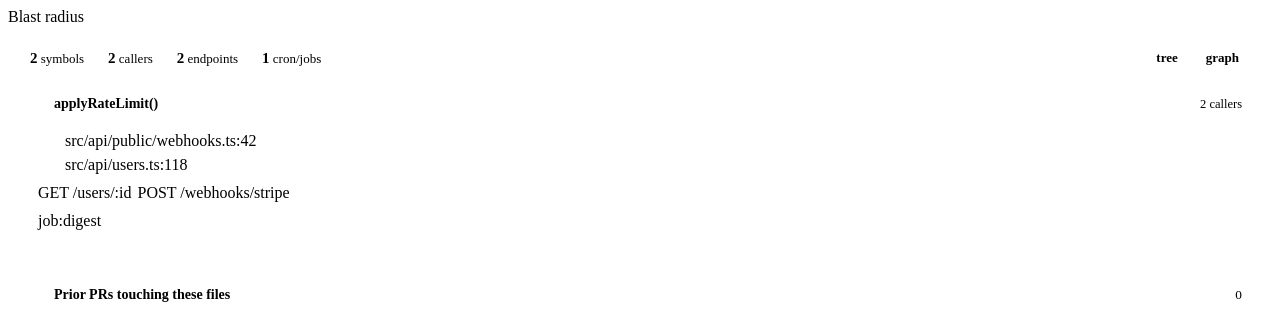
Test: BlastRadiusPanel › toggles a group open/closed (P3-a)
Click the button "applyRateLimit() 2 callers" at (106, 104), box [24,86,1256,122]
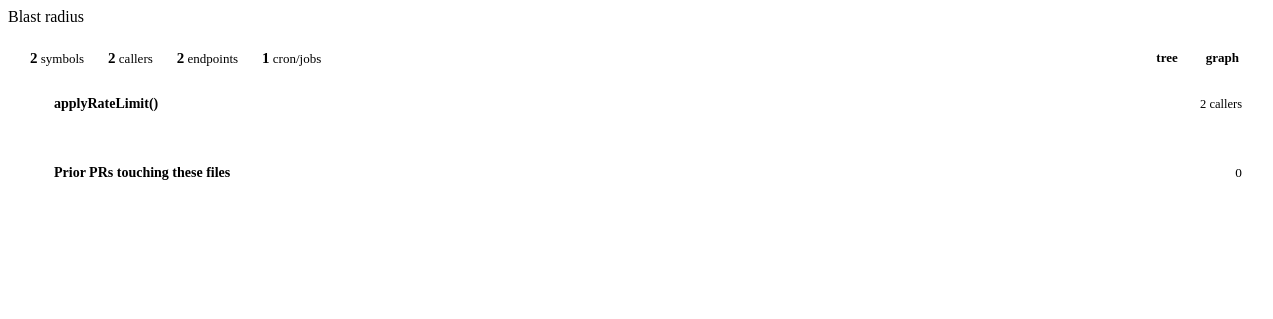
Check: the text "src/api/users.ts:118" is gone
